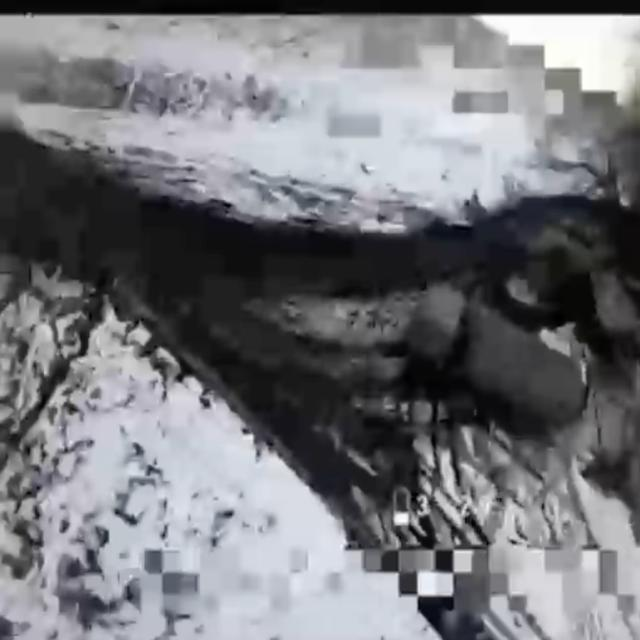vehicle: (406, 277, 594, 435)
